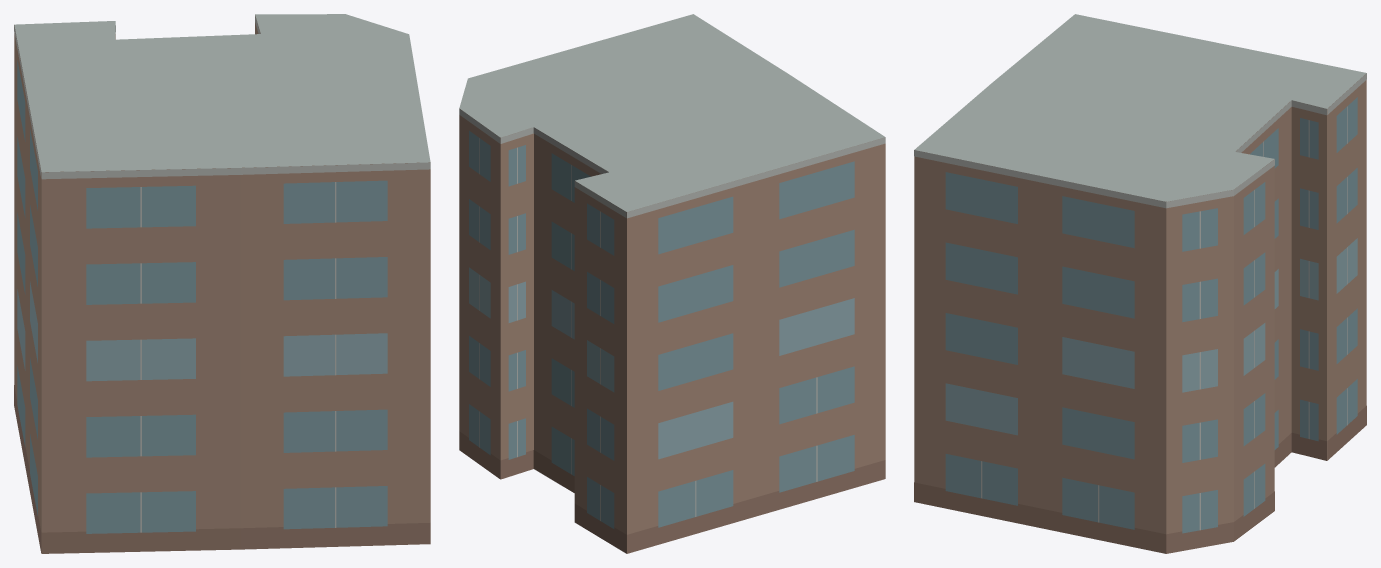
Rendered from survey-upis-32893403.glb.
The picture shows the model from 3 angles, left to right: view 1: azimuth 30°, elevation 25°; view 2: azimuth 150°, elevation 25°; view 3: azimuth 270°, elevation 25°; orthographic projection. The views are drawn at different scales.
Visible parts, largest first — view 1: survey-upis-32893403.tmp; view 2: survey-upis-32893403.tmp; view 3: survey-upis-32893403.tmp.
Part boxes in pixels (x1,y1,x2,y2): survey-upis-32893403.tmp: (14, 14, 430, 553); survey-upis-32893403.tmp: (459, 14, 885, 553); survey-upis-32893403.tmp: (914, 14, 1366, 553).
Size of the model in its own units: 15.11 by 13.2 by 15.39.
